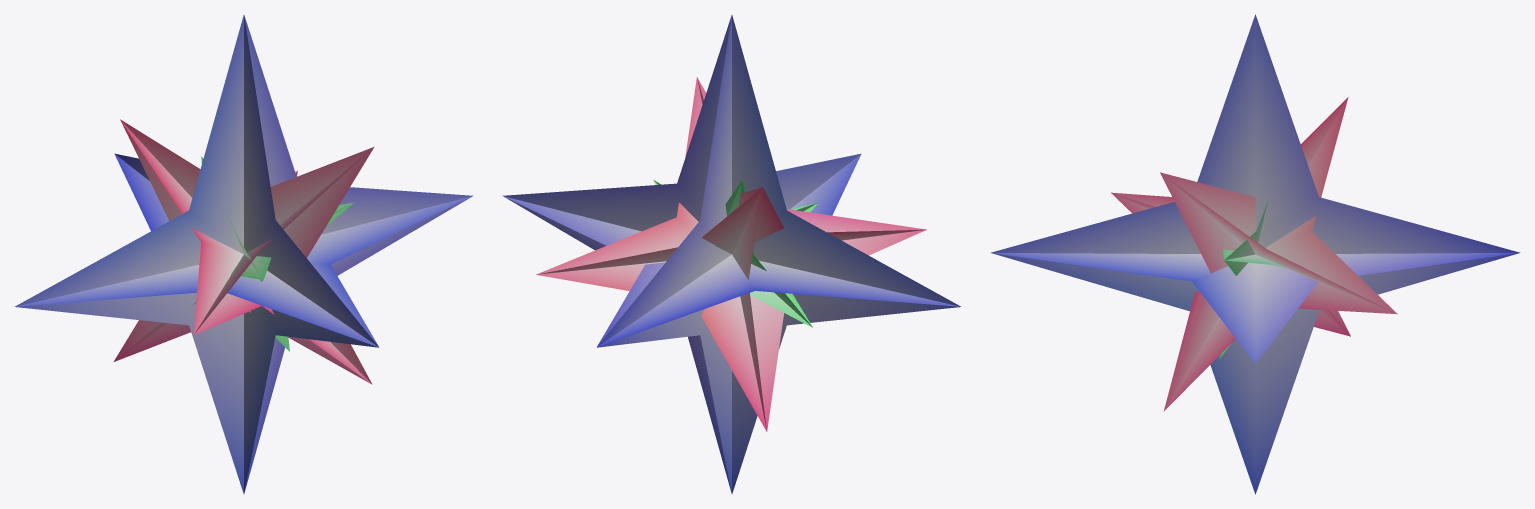
File: space-stars-star_v10.glb
The picture shows the model from 3 angles, left to right: view 1: azimuth 30°, elevation 25°; view 2: azimuth 150°, elevation 25°; view 3: azimuth 270°, elevation 25°; orthographic projection.
Visible parts, largest first — view 1: Star_v10; view 2: Star_v10; view 3: Star_v10.
Part boxes in pixels (x1,y1,x2,y2): Star_v10: (14,15,473,493); Star_v10: (502,15,961,493); Star_v10: (990,14,1520,494).
Bounding box in the file's own units: 0.5 × 0.5 × 0.5.
